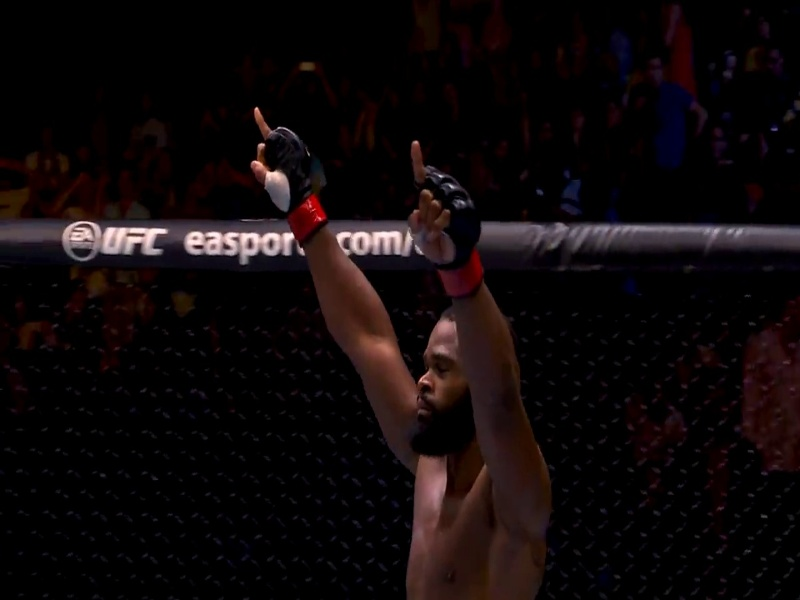fighter: (234, 78, 582, 600)
